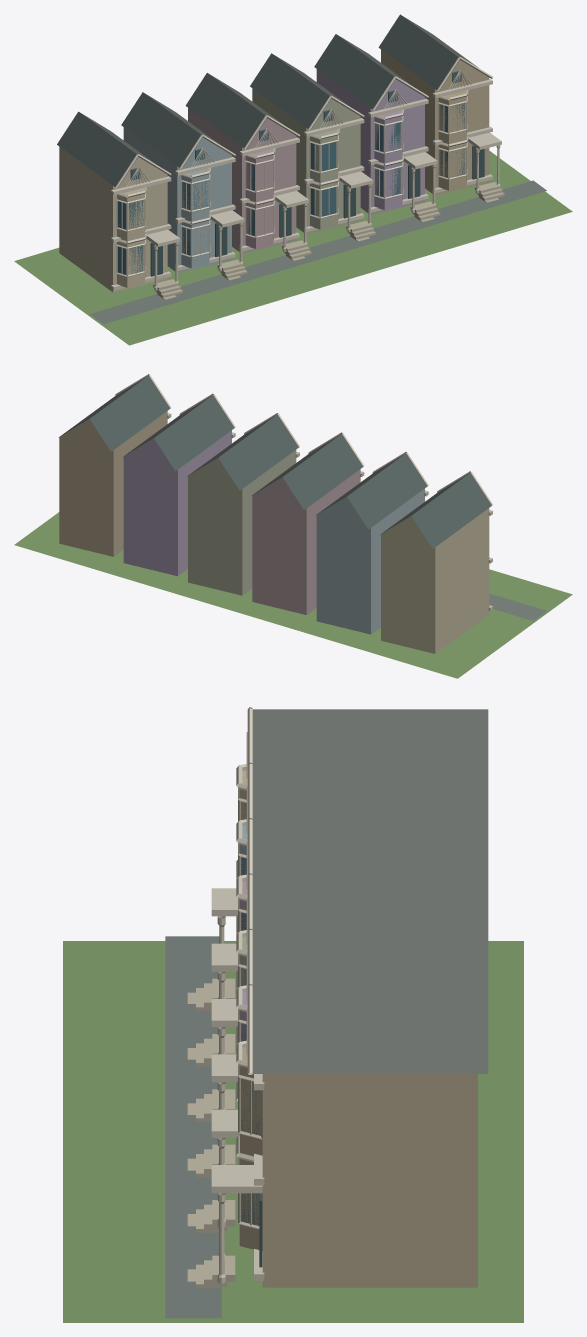
File: paintedLadies.glb
3 views of the same model, one above another, from view 1: azimuth 30°, elevation 25°; view 2: azimuth 150°, elevation 25°; view 3: azimuth 270°, elevation 25° (orthographic). The views are drawn at different scales.
Visible parts, largest first — view 1: painted-ladies-six-victorians; view 2: painted-ladies-six-victorians; view 3: painted-ladies-six-victorians.
Part boxes in pixels (bbox=[...]): painted-ladies-six-victorians: bbox=[14, 14, 572, 345]; painted-ladies-six-victorians: bbox=[14, 374, 572, 678]; painted-ladies-six-victorians: bbox=[63, 707, 523, 1322].
Bounding box in the file's own units: 20 × 6.99 × 9.
